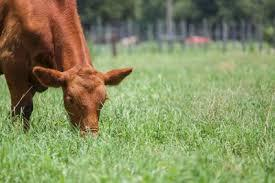cow: (0, 0, 133, 136)
